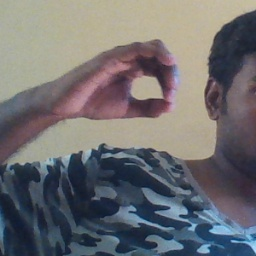O: (54, 35, 176, 119)
